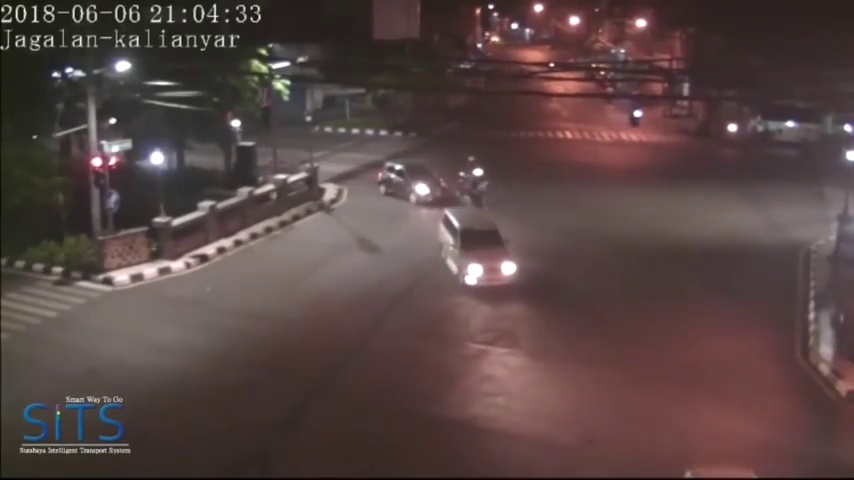car: (442, 210, 516, 291), (377, 157, 448, 206)
motorbike: (459, 154, 488, 209)
